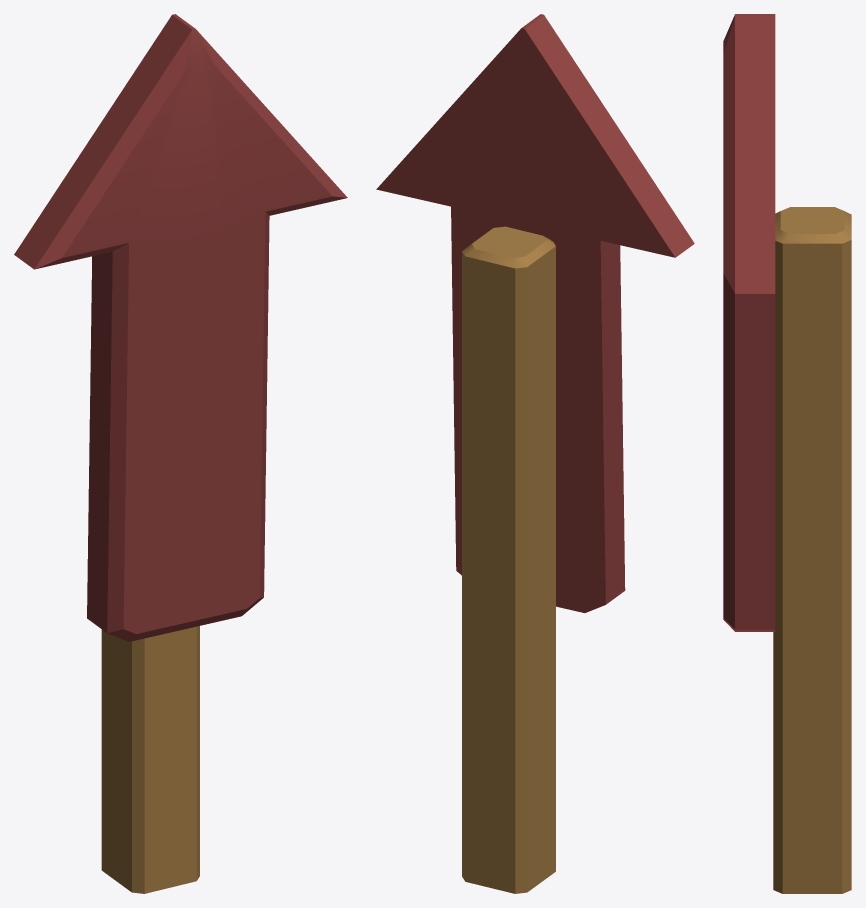
The model's file is Arrow_Up.gltf.
3 renders of one model, left to right at view 1: azimuth 30°, elevation 25°; view 2: azimuth 150°, elevation 25°; view 3: azimuth 270°, elevation 25°, orthographic. The views are drawn at different scales.
Visible parts, largest first — view 1: Arrow_Up; view 2: Arrow_Up; view 3: Arrow_Up.
Boxes of the visible parts, left/top/right/bottom form: Arrow_Up: left=14, top=14, right=347, bottom=893; Arrow_Up: left=376, top=14, right=694, bottom=893; Arrow_Up: left=723, top=14, right=851, bottom=893.
Size of the model in its own units: 1.02 by 2.7 by 0.3632.
